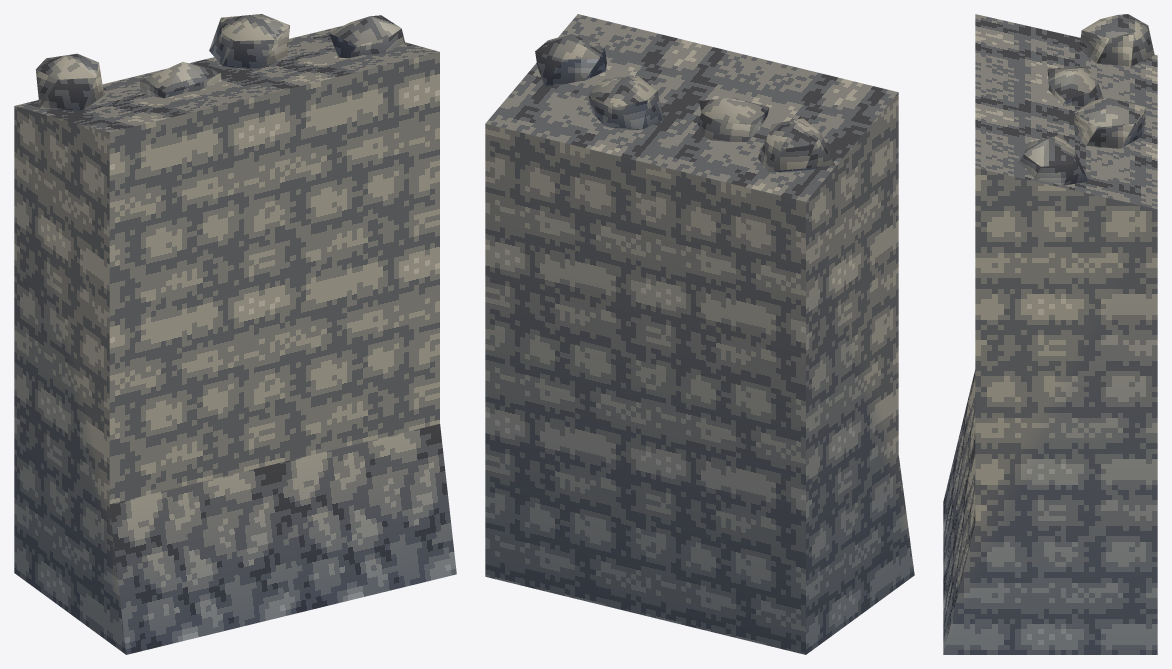
File: cst.curtain__broken.glb
3 renders of one model, left to right at view 1: azimuth 30°, elevation 25°; view 2: azimuth 150°, elevation 25°; view 3: azimuth 270°, elevation 25°, orthographic. The views are drawn at different scales.
Parts seen in each view (by area): view 1: kit_wall, kit_top; view 2: kit_wall, kit_top; view 3: kit_wall, kit_top.
Part boxes in pixels (x1=…): kit_wall: x1=14, y1=26, x2=456, y2=654; kit_top: x1=35, y1=14, x2=405, y2=110; kit_wall: x1=485, y1=14, x2=914, y2=654; kit_top: x1=535, y1=34, x2=834, y2=172; kit_wall: x1=943, y1=14, x2=1157, y2=654; kit_top: x1=1019, y1=14, x2=1154, y2=185.
Size of the model in its own units: 4.03 by 6.08 by 2.35.
Materials: 3 (3 with a texture image).
